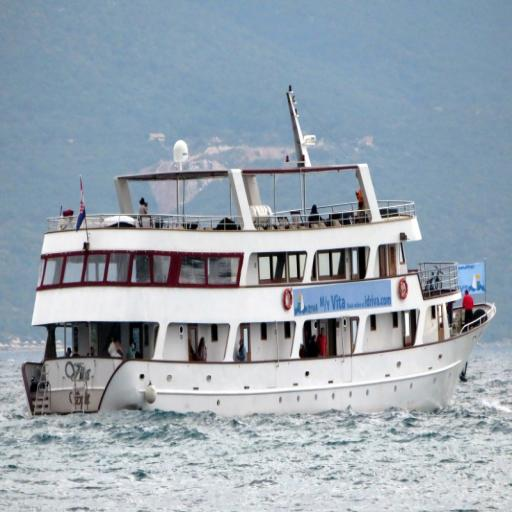cruises: (20, 83, 500, 429)
